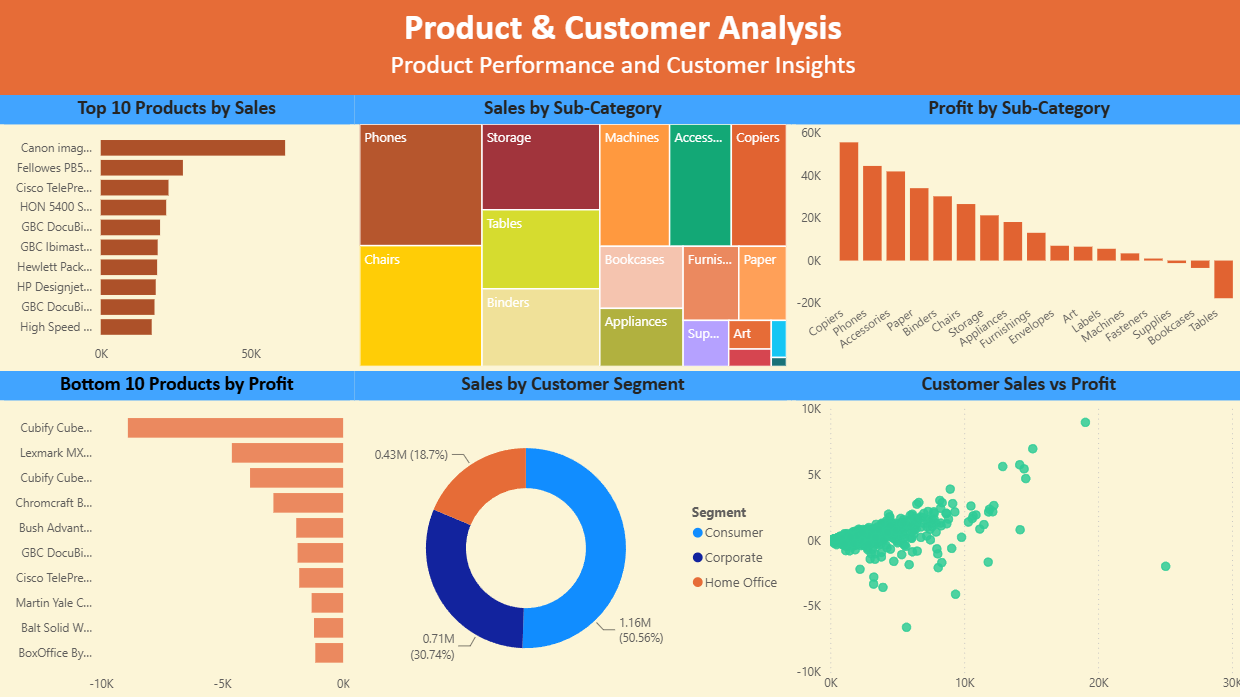

What the dashboard file says about the page in this screenshot:
{"tool":"powerbi","page":{"name":"Product & Customer Analysis","canvas":[1280,720],"ordinal":2},"visuals":[{"type":"textbox","box":[0,0,1280,98.5],"z":0},{"type":"clusteredBarChart","title":"Top 10 Products by Sales","fields":{"Category":["Sample - Superstore.Product Name"],"Y":["Sample - Superstore.Total Sales"]},"box":[0,98.5,364.6,283.1],"z":1},{"type":"clusteredBarChart","title":"Bottom 10 Products by Profit","fields":{"Category":["Sample - Superstore.Product Name"],"Y":["Sample - Superstore.Total Profit"]},"box":[0,381.5,364.6,338.5],"z":2},{"type":"treemap","title":"Sales by Sub-Category","fields":{"Group":["Sample - Superstore.Sub-Category"],"Values":["Sample - Superstore.Total Sales"]},"box":[364.6,98.5,447.7,283.1],"z":3},{"type":"clusteredColumnChart","title":"Profit by Sub-Category","fields":{"Category":["Sample - Superstore.Sub-Category"],"Y":["Sample - Superstore.Total Profit"]},"box":[812.3,98.5,467.7,283.1],"z":4},{"type":"donutChart","title":"Sales by Customer Segment","fields":{"Category":["Sample - Superstore.Segment"],"Y":["Sample - Superstore.Total Sales"]},"box":[365,382,448,338],"z":5},{"type":"scatterChart","title":"Customer Sales vs Profit","fields":{"Category":["Sample - Superstore.Customer Name"],"X":["Sample - Superstore.Total Sales"],"Y":["Sample - Superstore.Total Profit"]},"box":[813,382,467,338],"z":6}]}

Visuals, with their boxes in screenshot pixels (x1, y1, x2, y2), scaled from the page's 1280x720 canvas onto the 1240x697 screenshot:
textbox: <box>0,0,1239,95</box>
"Top 10 Products by Sales" clusteredBarChart: <box>0,95,353,369</box>
"Bottom 10 Products by Profit" clusteredBarChart: <box>0,369,353,696</box>
"Sales by Sub-Category" treemap: <box>353,95,787,369</box>
"Profit by Sub-Category" clusteredColumnChart: <box>787,95,1239,369</box>
"Sales by Customer Segment" donutChart: <box>354,370,788,696</box>
"Customer Sales vs Profit" scatterChart: <box>788,370,1239,696</box>
